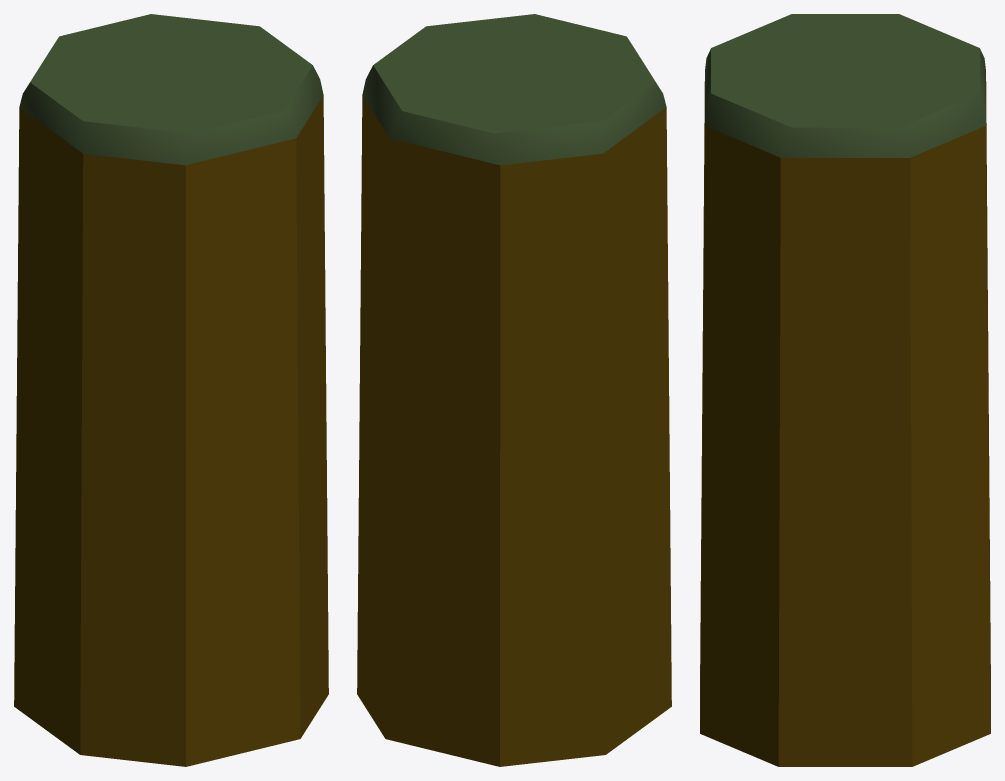
The model's file is envCliff_8x8.fbx.
3 renders of one model, left to right at view 1: azimuth 30°, elevation 25°; view 2: azimuth 150°, elevation 25°; view 3: azimuth 270°, elevation 25°, orthographic.
Parts seen in each view (by area): view 1: envCliff_8x8; view 2: envCliff_8x8; view 3: envCliff_8x8.
Boxes of the visible parts, x1,y1,x2,y2 form: envCliff_8x8: (14, 14, 328, 766); envCliff_8x8: (357, 14, 671, 766); envCliff_8x8: (700, 14, 990, 766).
Size of the model in its own units: 7.82 by 18.82 by 7.82.
